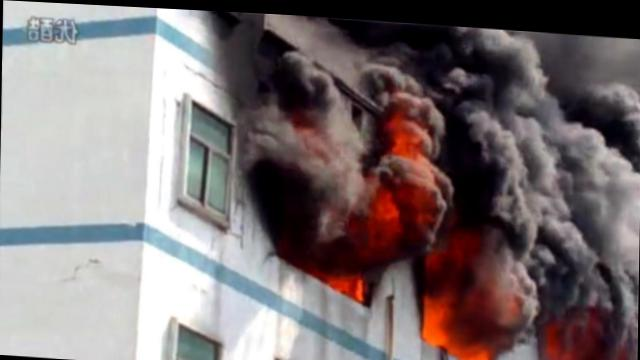fire: (422, 277, 461, 339), (364, 180, 404, 235), (391, 105, 422, 147), (331, 266, 368, 295), (452, 335, 494, 359)
